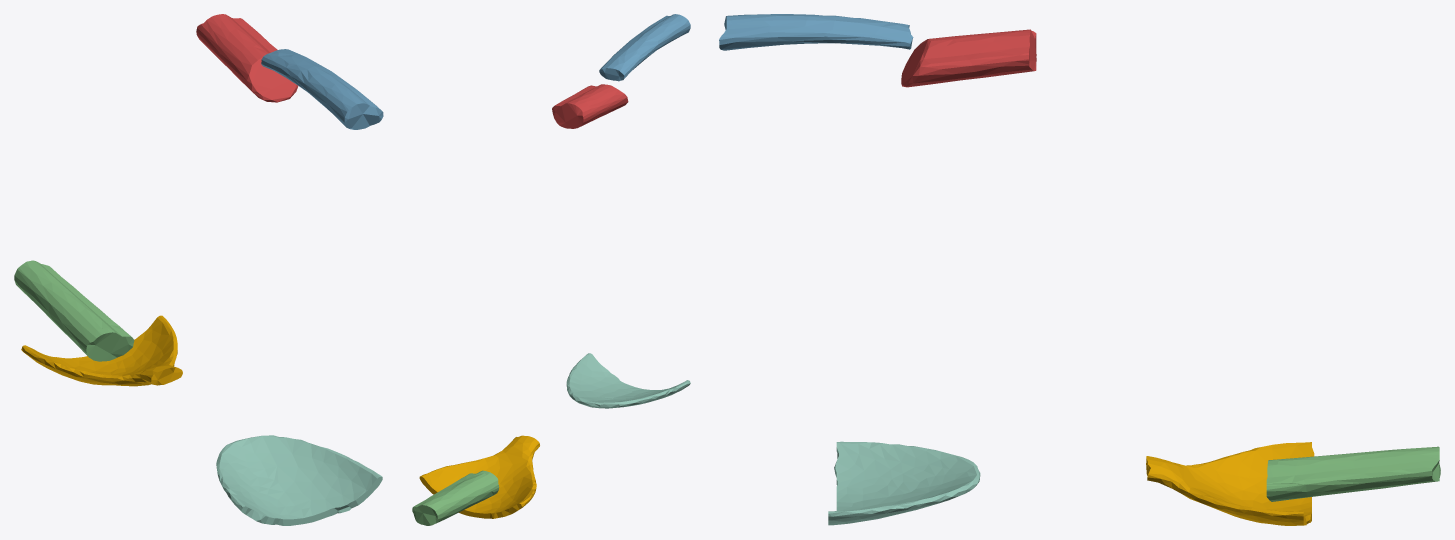
File: mode_4_5pcs_transformed.glb
3 views of the same model, side by side, from view 1: azimuth 30°, elevation 25°; view 2: azimuth 150°, elevation 25°; view 3: azimuth 270°, elevation 25° (orthographic). The views are drawn at different scales.
Visible parts, largest first — view 1: piece_4.obj, piece_3.obj, piece_0.obj, piece_1.obj, piece_2.obj; view 2: piece_0.obj, piece_4.obj, piece_3.obj, piece_2.obj, piece_1.obj; view 3: piece_4.obj, piece_0.obj, piece_3.obj, piece_1.obj, piece_2.obj.
Boxes of the visible parts, bbox=[...] form: piece_4.obj: bbox=[216, 435, 382, 525]; piece_3.obj: bbox=[14, 260, 134, 361]; piece_0.obj: bbox=[21, 315, 182, 386]; piece_1.obj: bbox=[196, 14, 298, 102]; piece_2.obj: bbox=[261, 49, 383, 129]; piece_0.obj: bbox=[419, 435, 539, 518]; piece_4.obj: bbox=[566, 353, 690, 408]; piece_3.obj: bbox=[412, 470, 499, 525]; piece_2.obj: bbox=[599, 14, 690, 81]; piece_1.obj: bbox=[552, 84, 628, 128]; piece_4.obj: bbox=[828, 441, 980, 525]; piece_0.obj: bbox=[1146, 442, 1314, 525]; piece_3.obj: bbox=[1266, 446, 1440, 501]; piece_1.obj: bbox=[901, 29, 1036, 87]; piece_2.obj: bbox=[719, 14, 913, 50].
Size of the model in its own units: 0.217 by 0.6921 by 0.9111.
